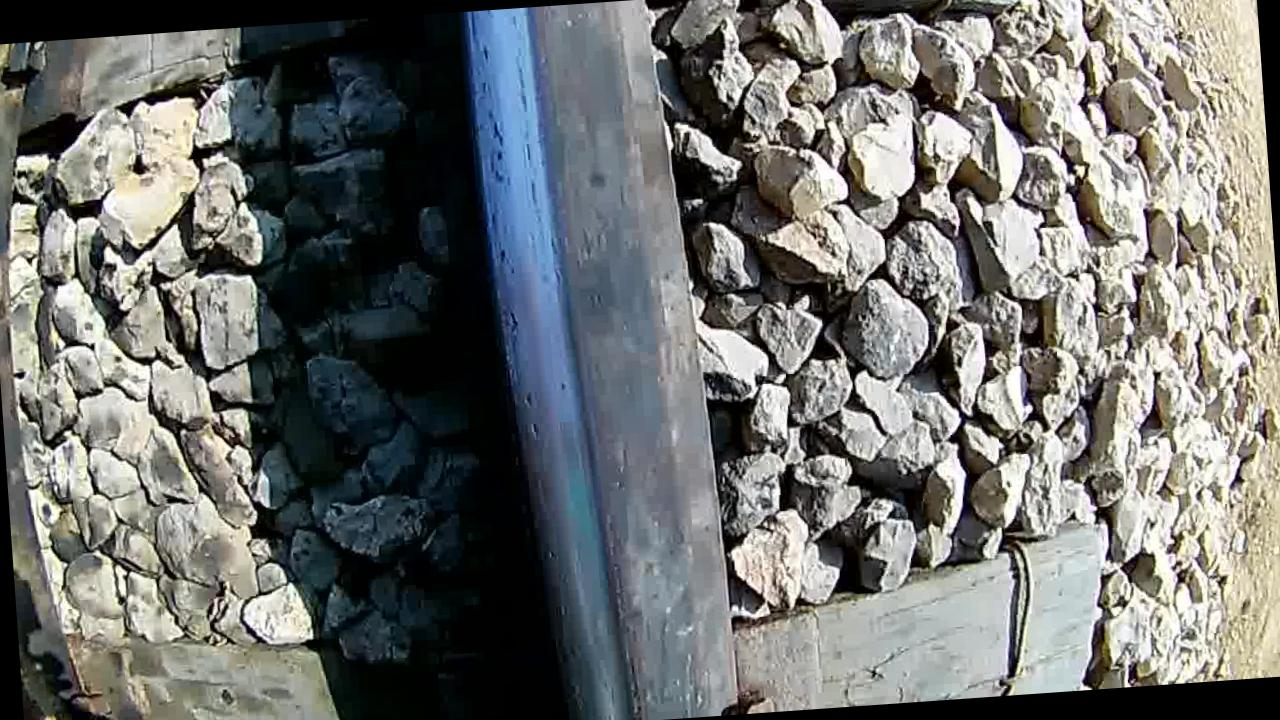crack: (462, 0, 692, 720)
